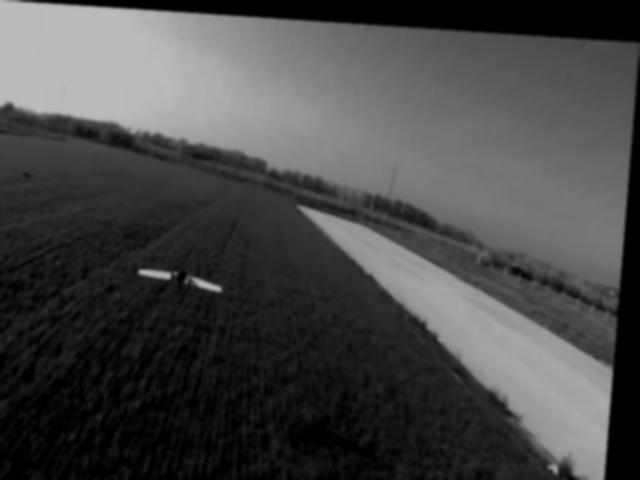hedef: (136, 257, 232, 299)
